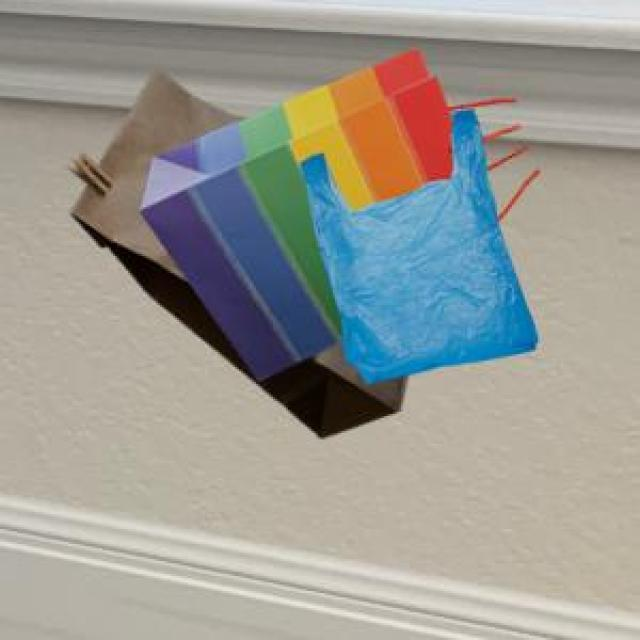paper: (137, 45, 514, 376), (64, 66, 403, 433)
